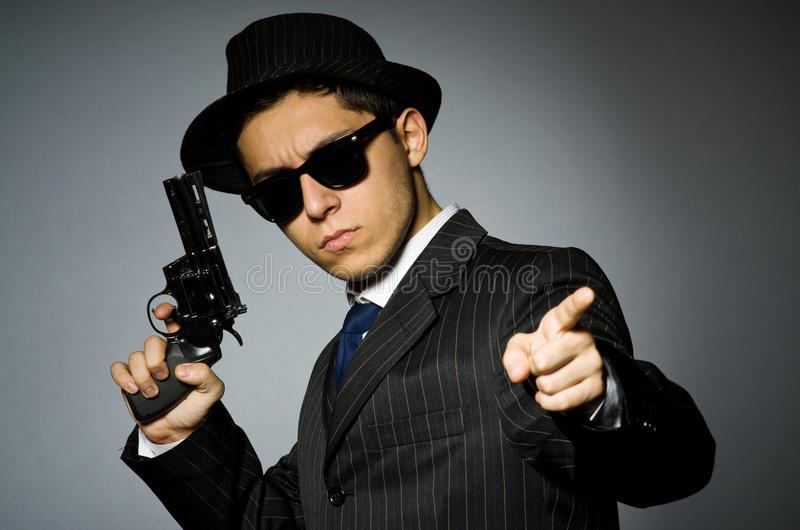criminal: (111, 9, 720, 530)
weapon: (120, 172, 249, 430)
